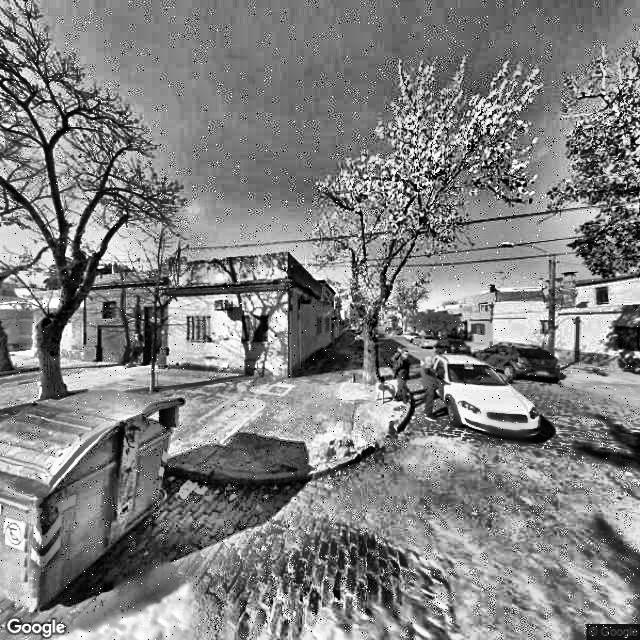Dustbin: (1, 380, 189, 614)
